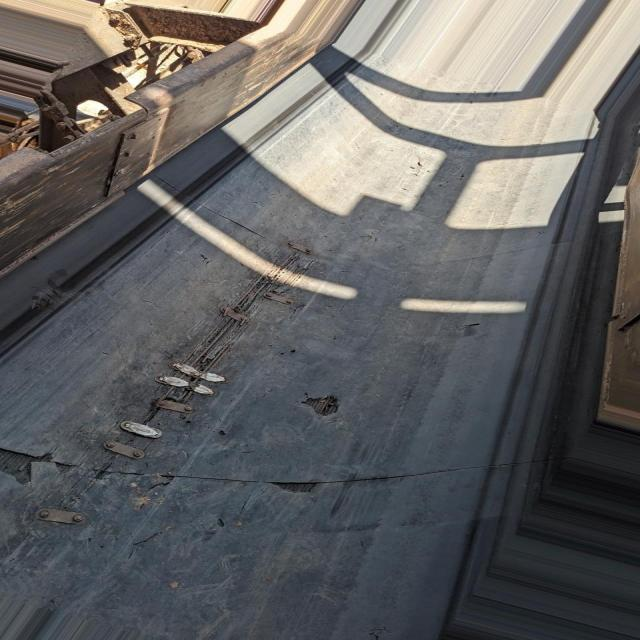Tear: (0, 438, 483, 493), (208, 199, 272, 243), (298, 388, 362, 418), (461, 312, 494, 333)
patch work: (93, 240, 331, 464), (28, 483, 89, 534)
